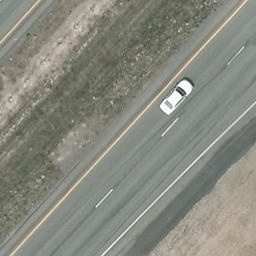car: (159, 78, 196, 118)
